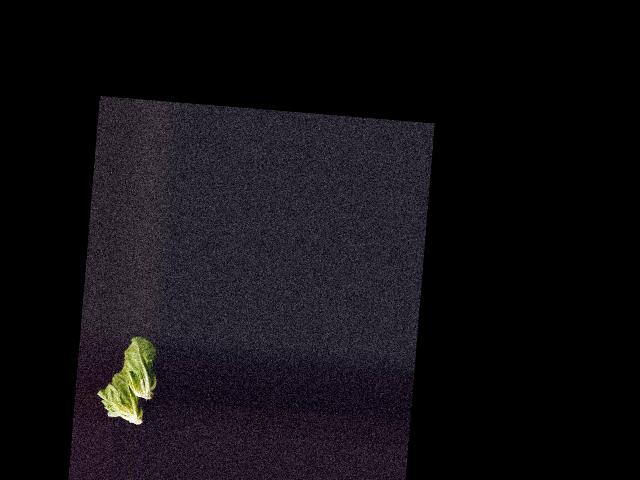lettuce: (96, 360, 154, 425)
